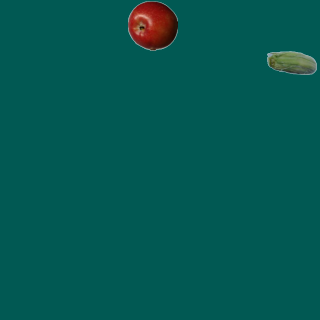Apple Braeburn: (127, 0, 177, 50)
Corn Husk: (266, 39, 316, 89)
